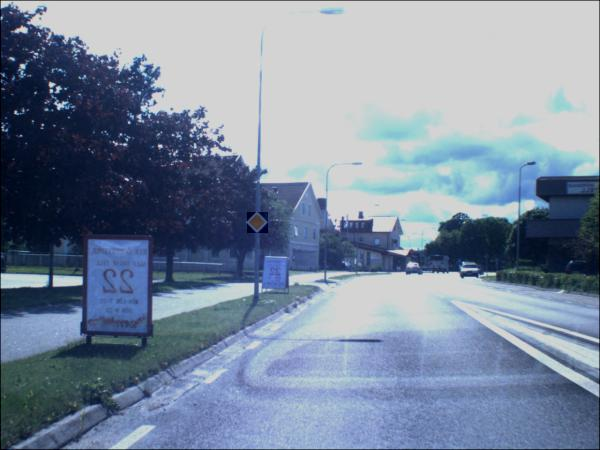PRIORITY_ROAD: (247, 213, 269, 235)
